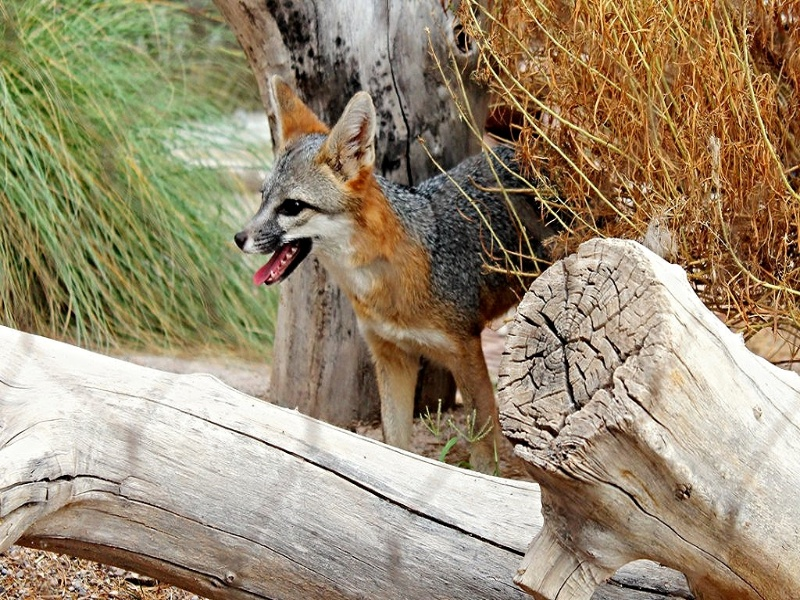fox: (227, 70, 549, 472)
